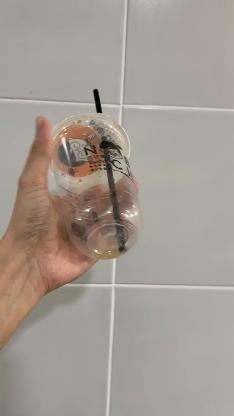Plastic Cup: (48, 110, 142, 260)
